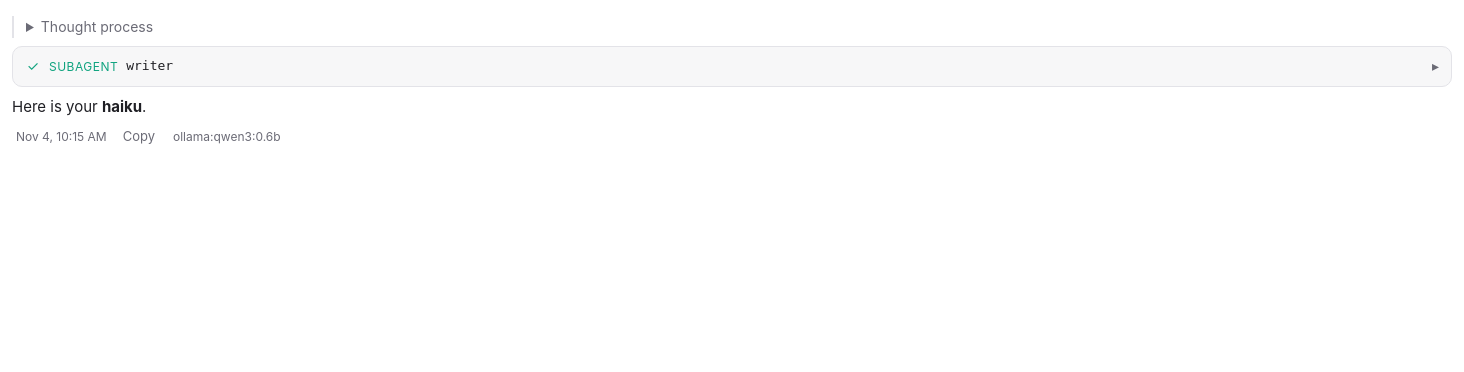
renders reasoning, a collapsible subagent card, the answer and a timestamp
Expected: the heading "Thought process" is shown, 41,18 -> 153,35
Expected: the text "Subagent" is shown, 49,57 -> 118,76
Click the button "✓ Subagent writer ▸": (84, 66) 13,47 -> 1451,86
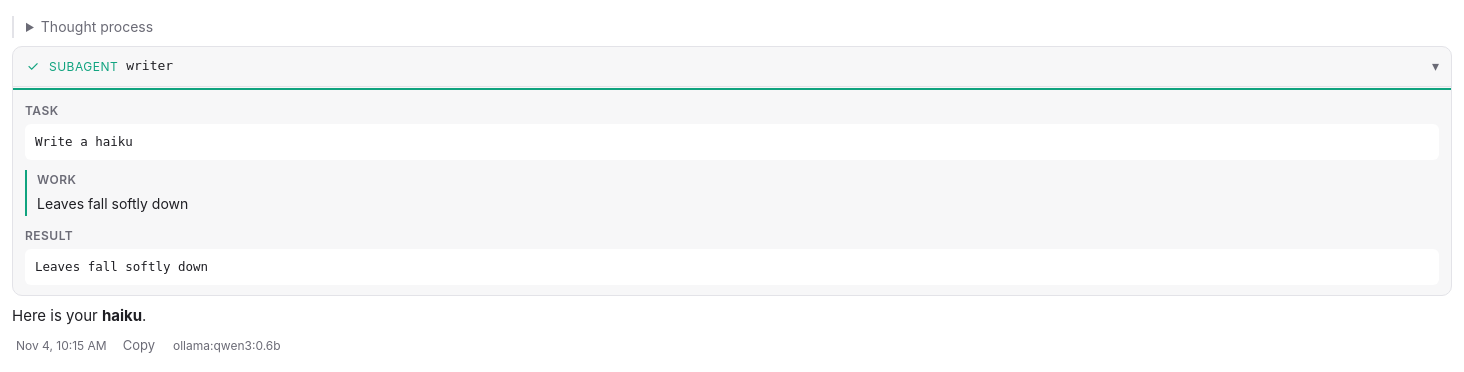
Expected: the text "ollama:qwen3:0.6b" is shown, 173,336 -> 281,355
Result: the text "Write a haiku" is shown at 25,124 -> 1439,160
Result: the text "Leaves fall softly down" is shown 2 times at 37,195 -> 188,212; 25,249 -> 1439,285
